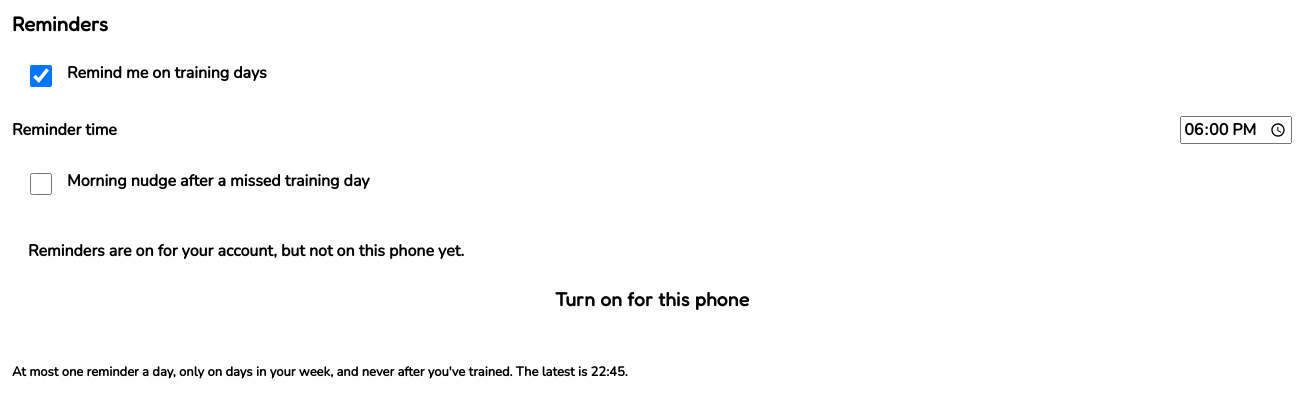
Test: RemindersSection › offers to set up this phone when reminders are on for the account but this device is not subscribed
Expected: the text "not on this phone yet" is shown, [28,240,464,262]
Click the button "Turn on for this phone".
click(652, 298)  # box [28,274,1276,322]
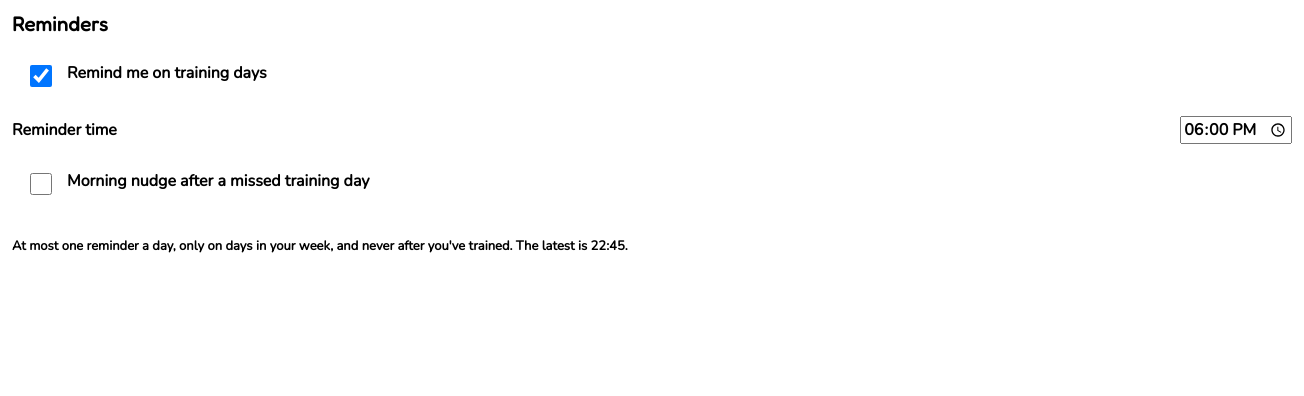
Expected: the text "not on this phone yet" is gone
